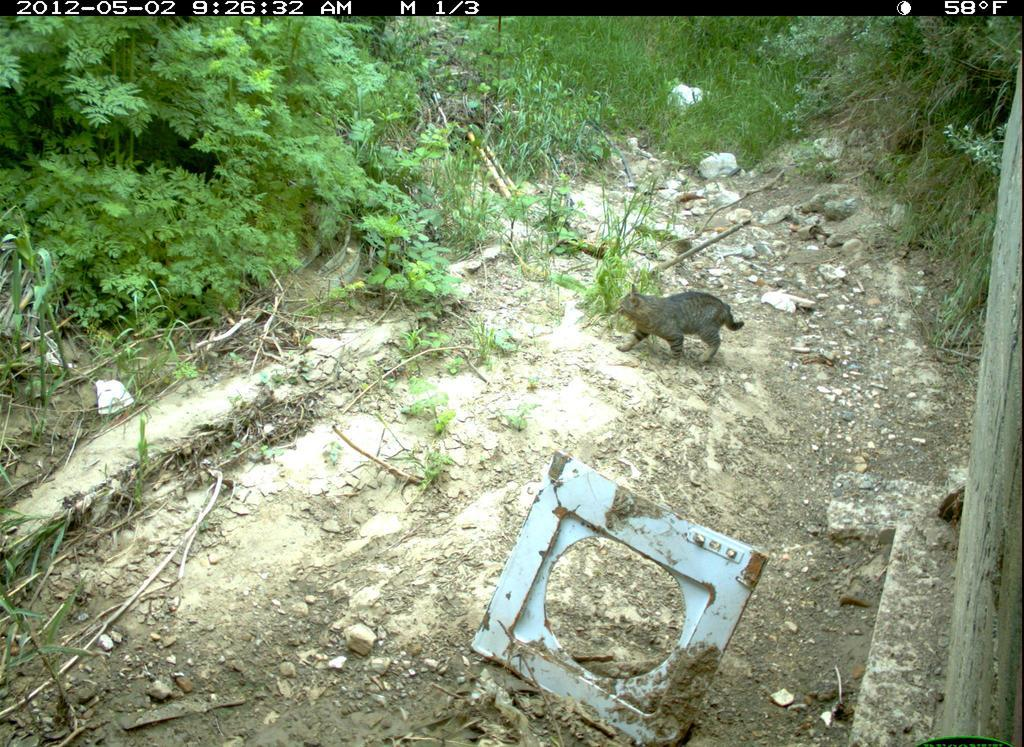cat: (609, 287, 758, 374)
